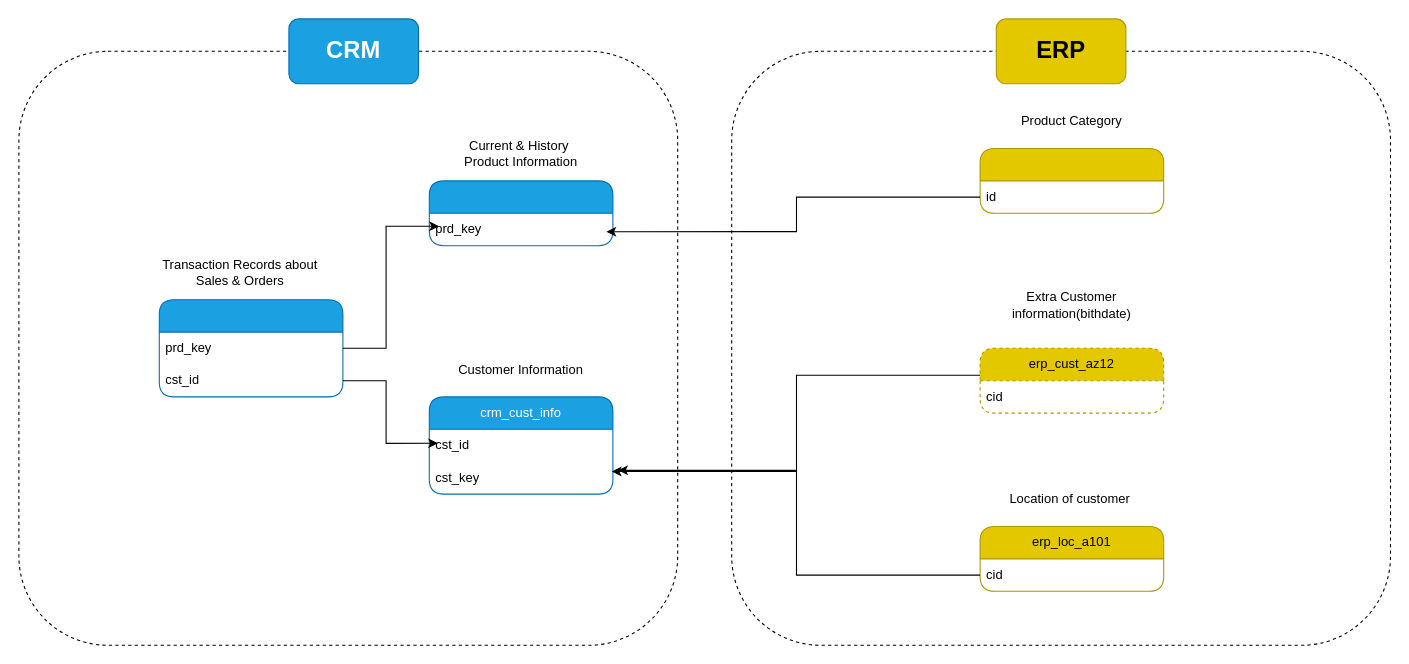
The diagram is 1409 pixels wide and 664 high, and some of its shapes have lost their labels. Each missing label, with the box of its shape:
crm_prd_info: (428, 180, 613, 246)
crm_sales_details: (158, 299, 343, 397)
erp_px_cat_g1v2: (979, 147, 1164, 213)
